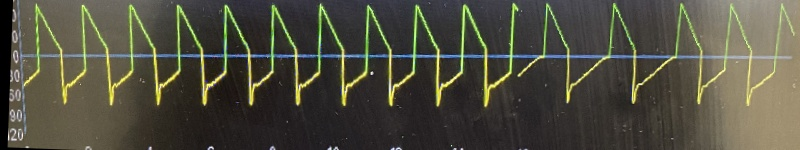normal_flow: (526, 0, 786, 110)
peepi: (27, 0, 515, 110)
